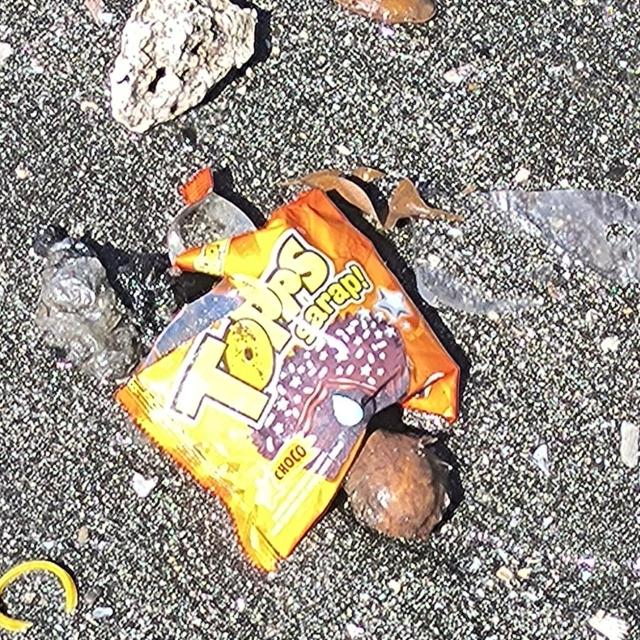plastic_waste: (111, 166, 463, 577)
